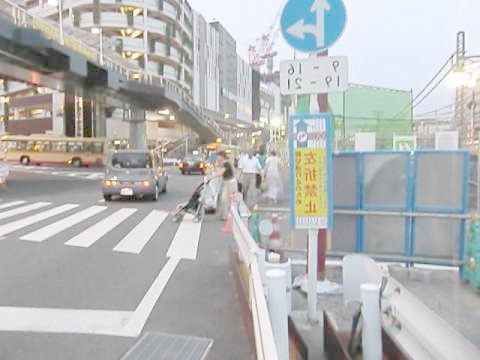Direction_sign: (271, 1, 342, 55)
